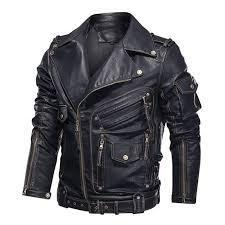jacket: (23, 14, 211, 220)
